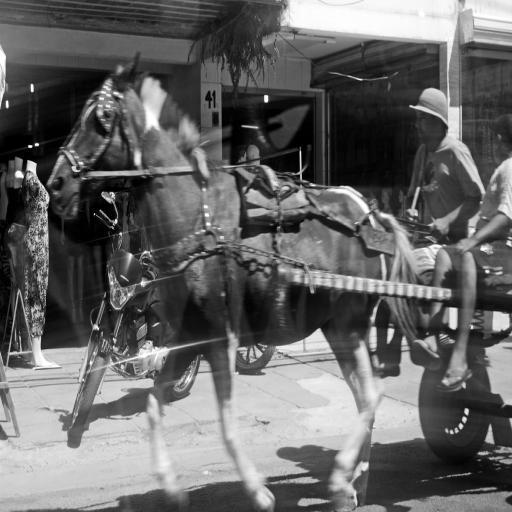horse: (46, 52, 426, 512)
